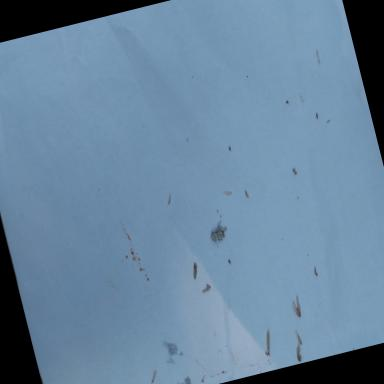pbw: (290, 296, 302, 318), (190, 261, 200, 279), (201, 282, 212, 292)
